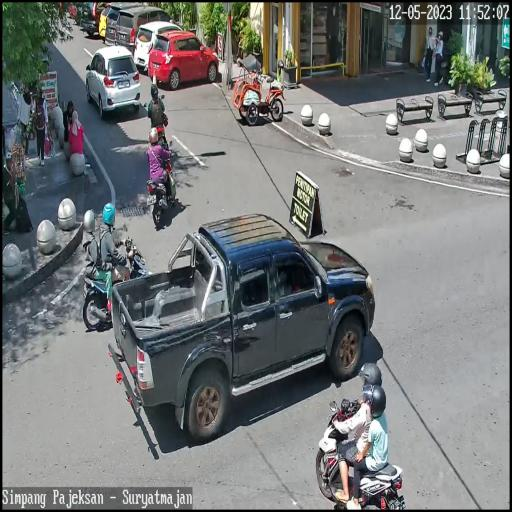mobil: (106, 210, 378, 449), (83, 40, 142, 122), (150, 26, 220, 92), (116, 6, 180, 56), (136, 21, 184, 79)
motor: (313, 392, 405, 512), (82, 248, 151, 328), (140, 150, 179, 226)
